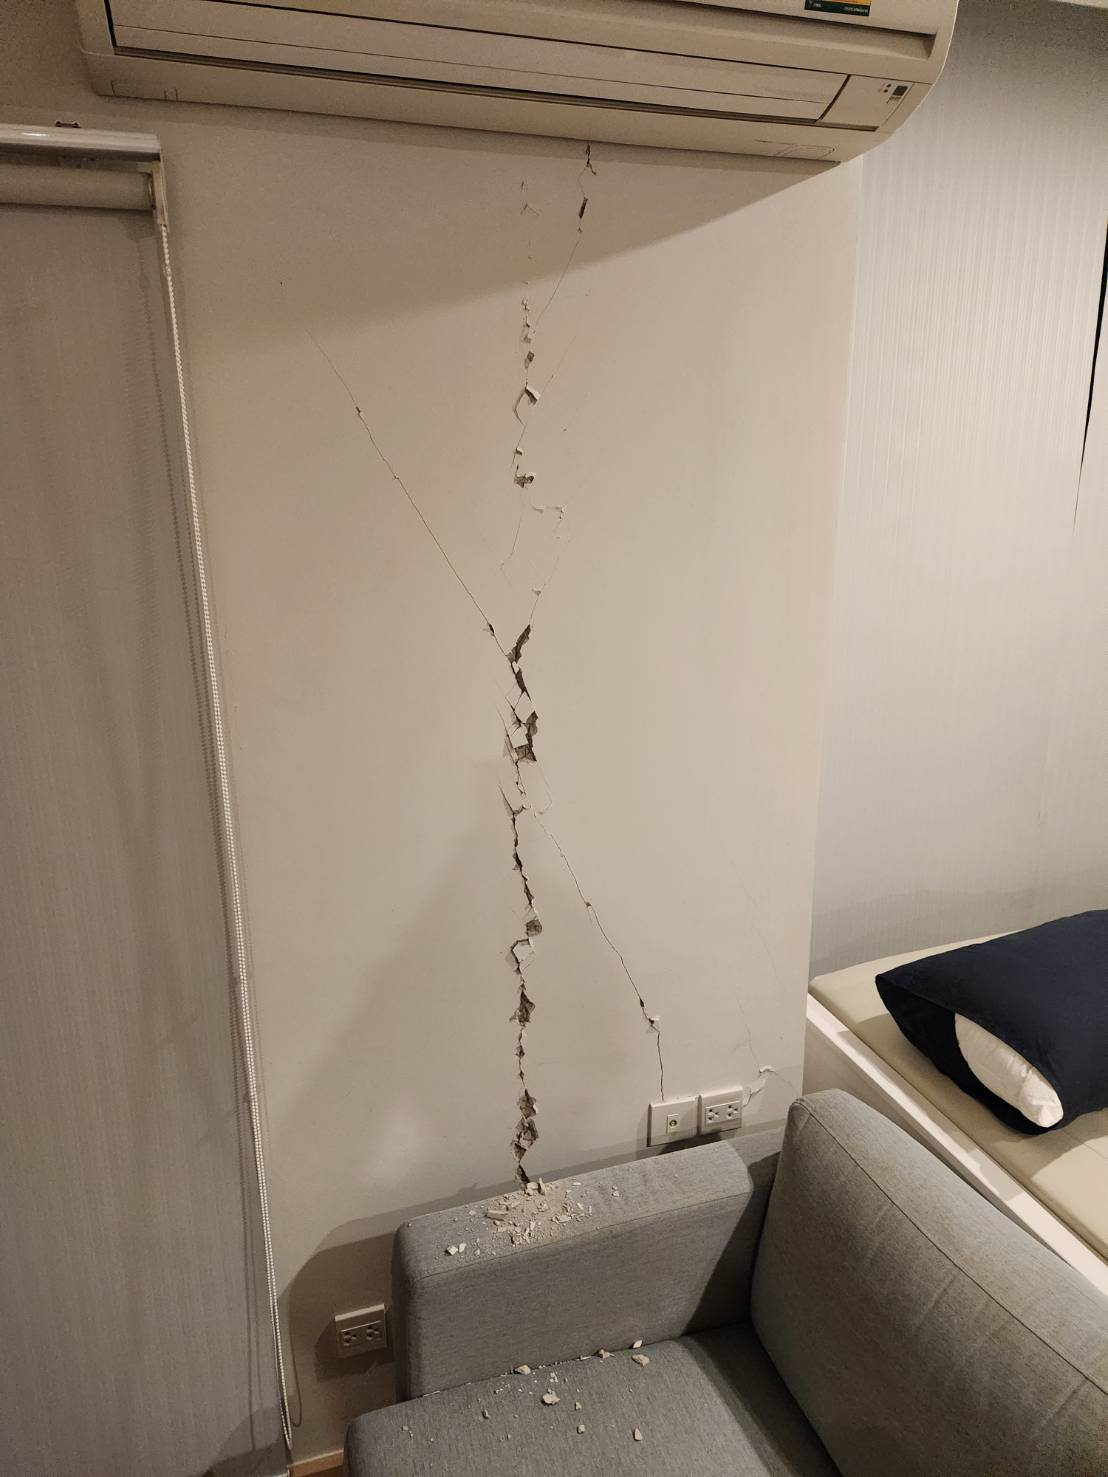Medium: (404, 599, 618, 1130)
